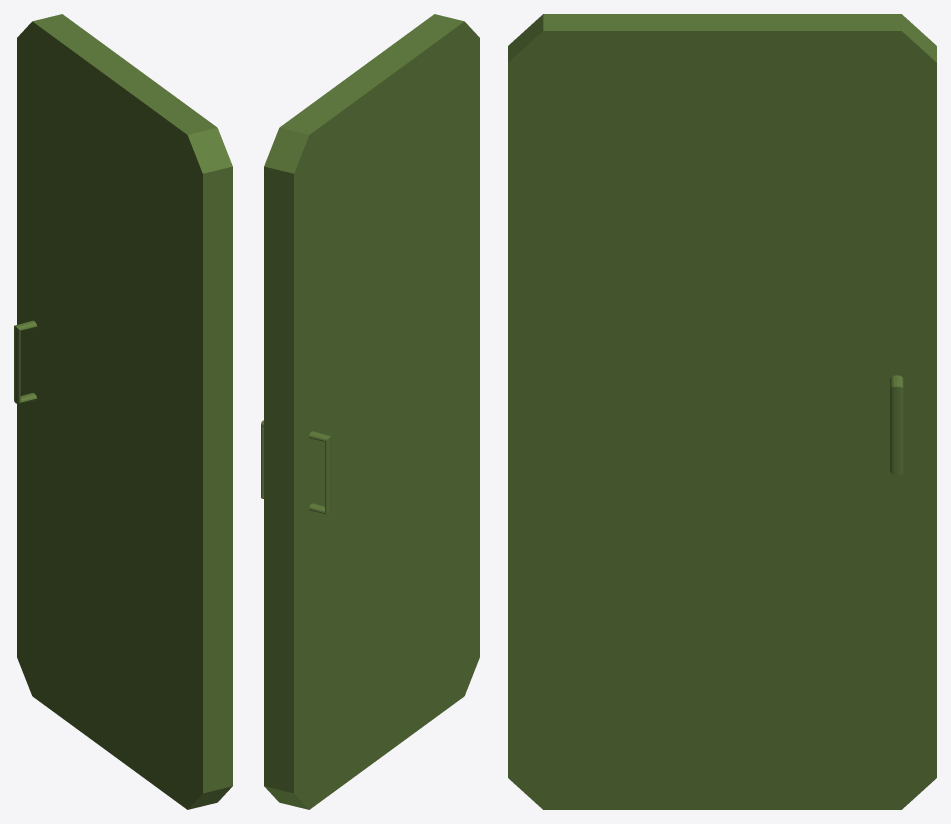
The model's file is Comms Cabin Door 1.fbx.
3 views of the same model, side by side, from view 1: azimuth 30°, elevation 25°; view 2: azimuth 150°, elevation 25°; view 3: azimuth 270°, elevation 25° (orthographic). The views are drawn at different scales.
Visible parts, largest first — view 1: Truck_with_antenna_wheel2_1.001; view 2: Truck_with_antenna_wheel2_1.001; view 3: Truck_with_antenna_wheel2_1.001.
Part boxes in pixels (x1=…): Truck_with_antenna_wheel2_1.001: x1=14, y1=14, x2=232, y2=809; Truck_with_antenna_wheel2_1.001: x1=261, y1=14, x2=479, y2=809; Truck_with_antenna_wheel2_1.001: x1=508, y1=14, x2=936, y2=809.
Size of the model in its own units: 14.31 by 137 by 68.21.
